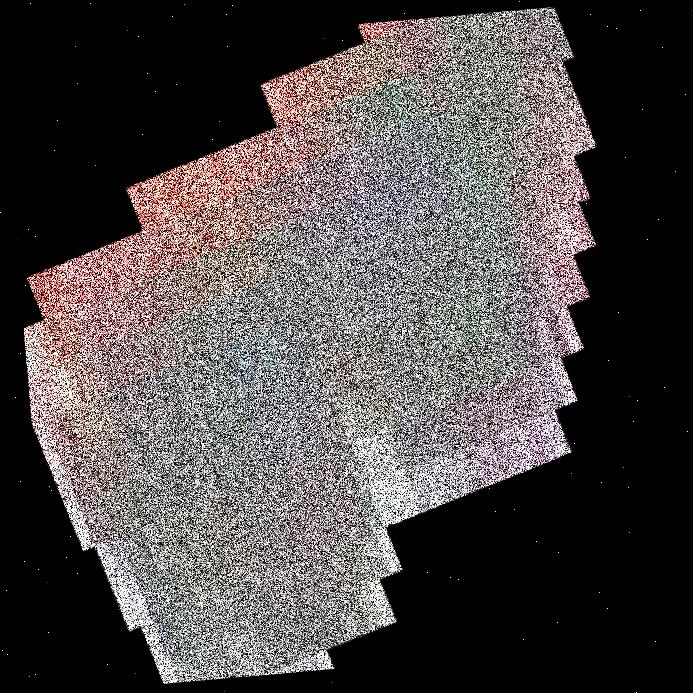Oculos: (69, 0, 599, 692)
